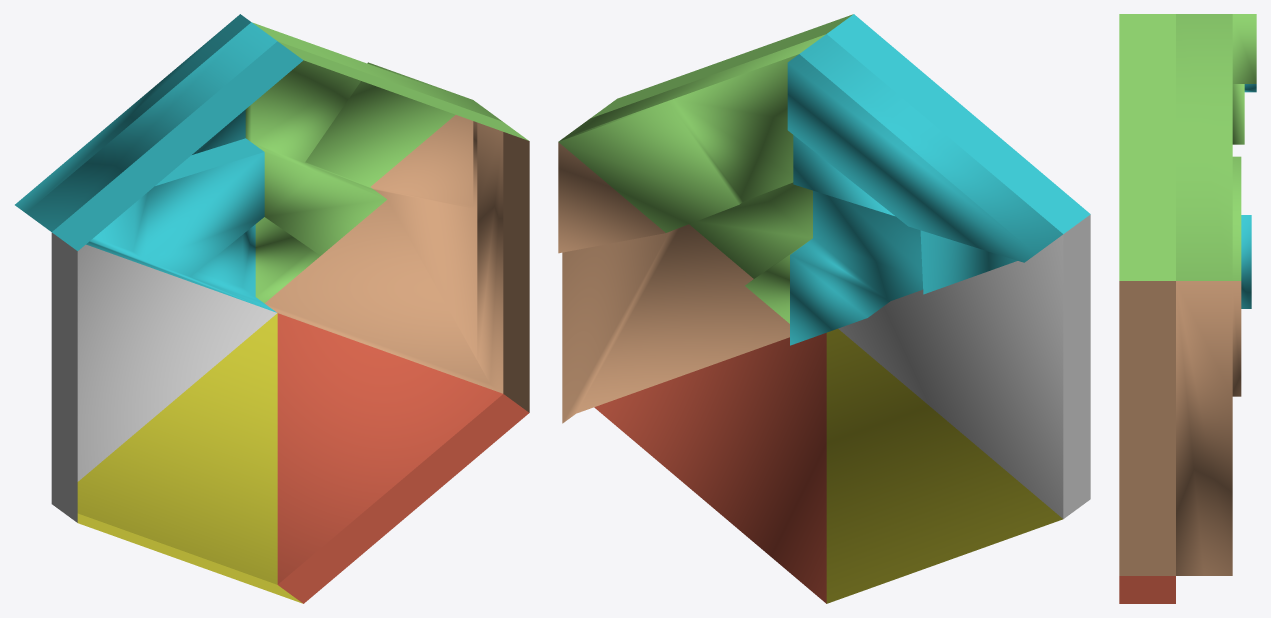
The model's file is tile_step01.fbx.
The picture shows the model from 3 angles, left to right: view 1: azimuth 30°, elevation 25°; view 2: azimuth 150°, elevation 25°; view 3: azimuth 270°, elevation 25°; orthographic projection. The views are drawn at different scales.
Parts seen in each view (by area): view 1: tile_step01; view 2: tile_step01; view 3: tile_step01.
Boxes of the visible parts, x1=… form: tile_step01: x1=15, y1=14, x2=529, y2=603; tile_step01: x1=558, y1=14, x2=1090, y2=603; tile_step01: x1=1119, y1=14, x2=1256, y2=603.
Size of the model in its own units: 2000 by 2300 by 485.
